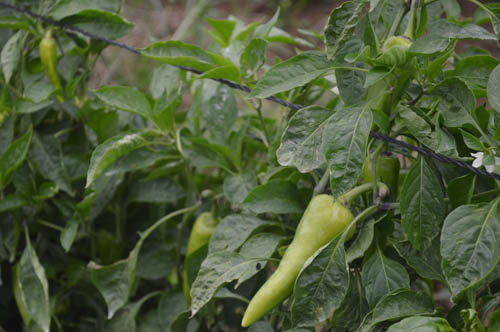ChiliPepper: (240, 197, 358, 328), (182, 215, 223, 316), (41, 40, 70, 100)
